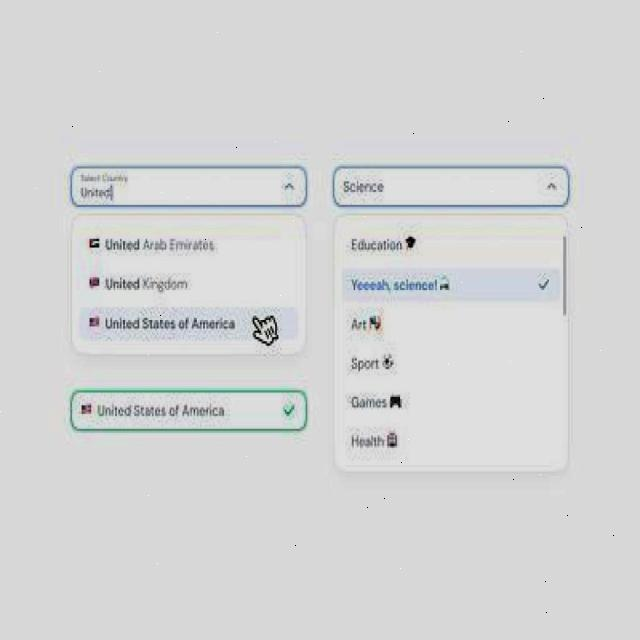dropdownMenu: (334, 168, 568, 478), (72, 169, 307, 358), (70, 390, 306, 431)
icon: (244, 304, 288, 351)
menuItem: (342, 266, 558, 302), (82, 309, 240, 343), (84, 232, 220, 257), (88, 272, 194, 296), (345, 424, 405, 462), (345, 388, 411, 412), (348, 233, 422, 254), (348, 352, 396, 376), (349, 311, 390, 337)
